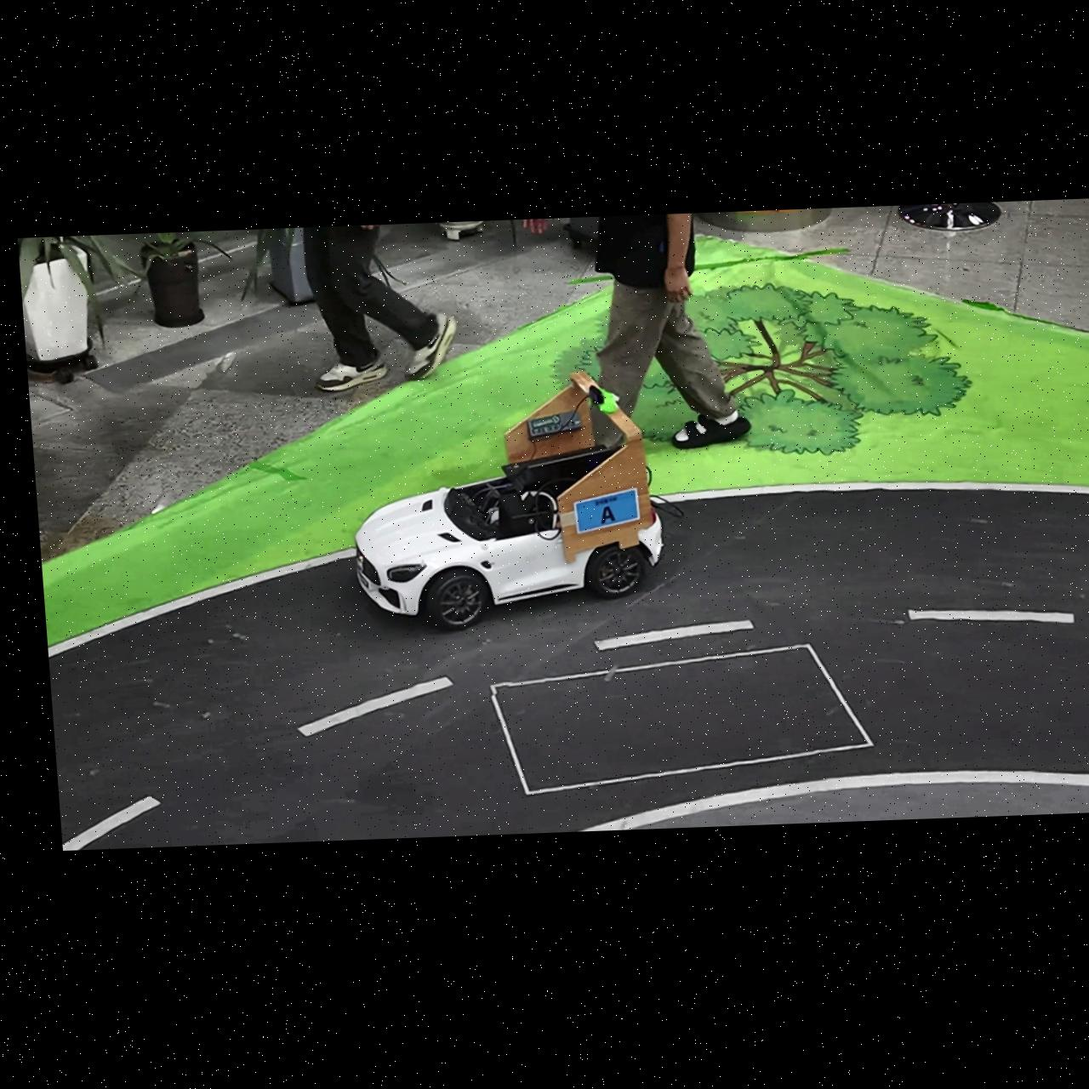broken_line: (297, 676, 454, 737), (63, 796, 161, 850), (595, 620, 753, 650), (908, 609, 1075, 623)
